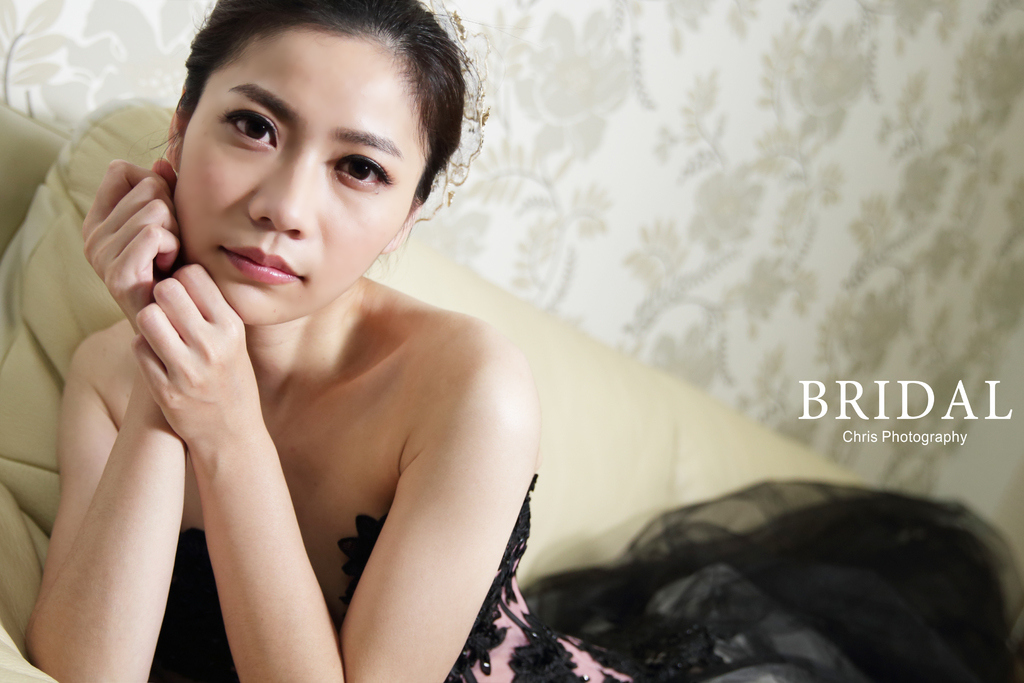Human_hand: (124, 249, 269, 477), (79, 159, 186, 335)
